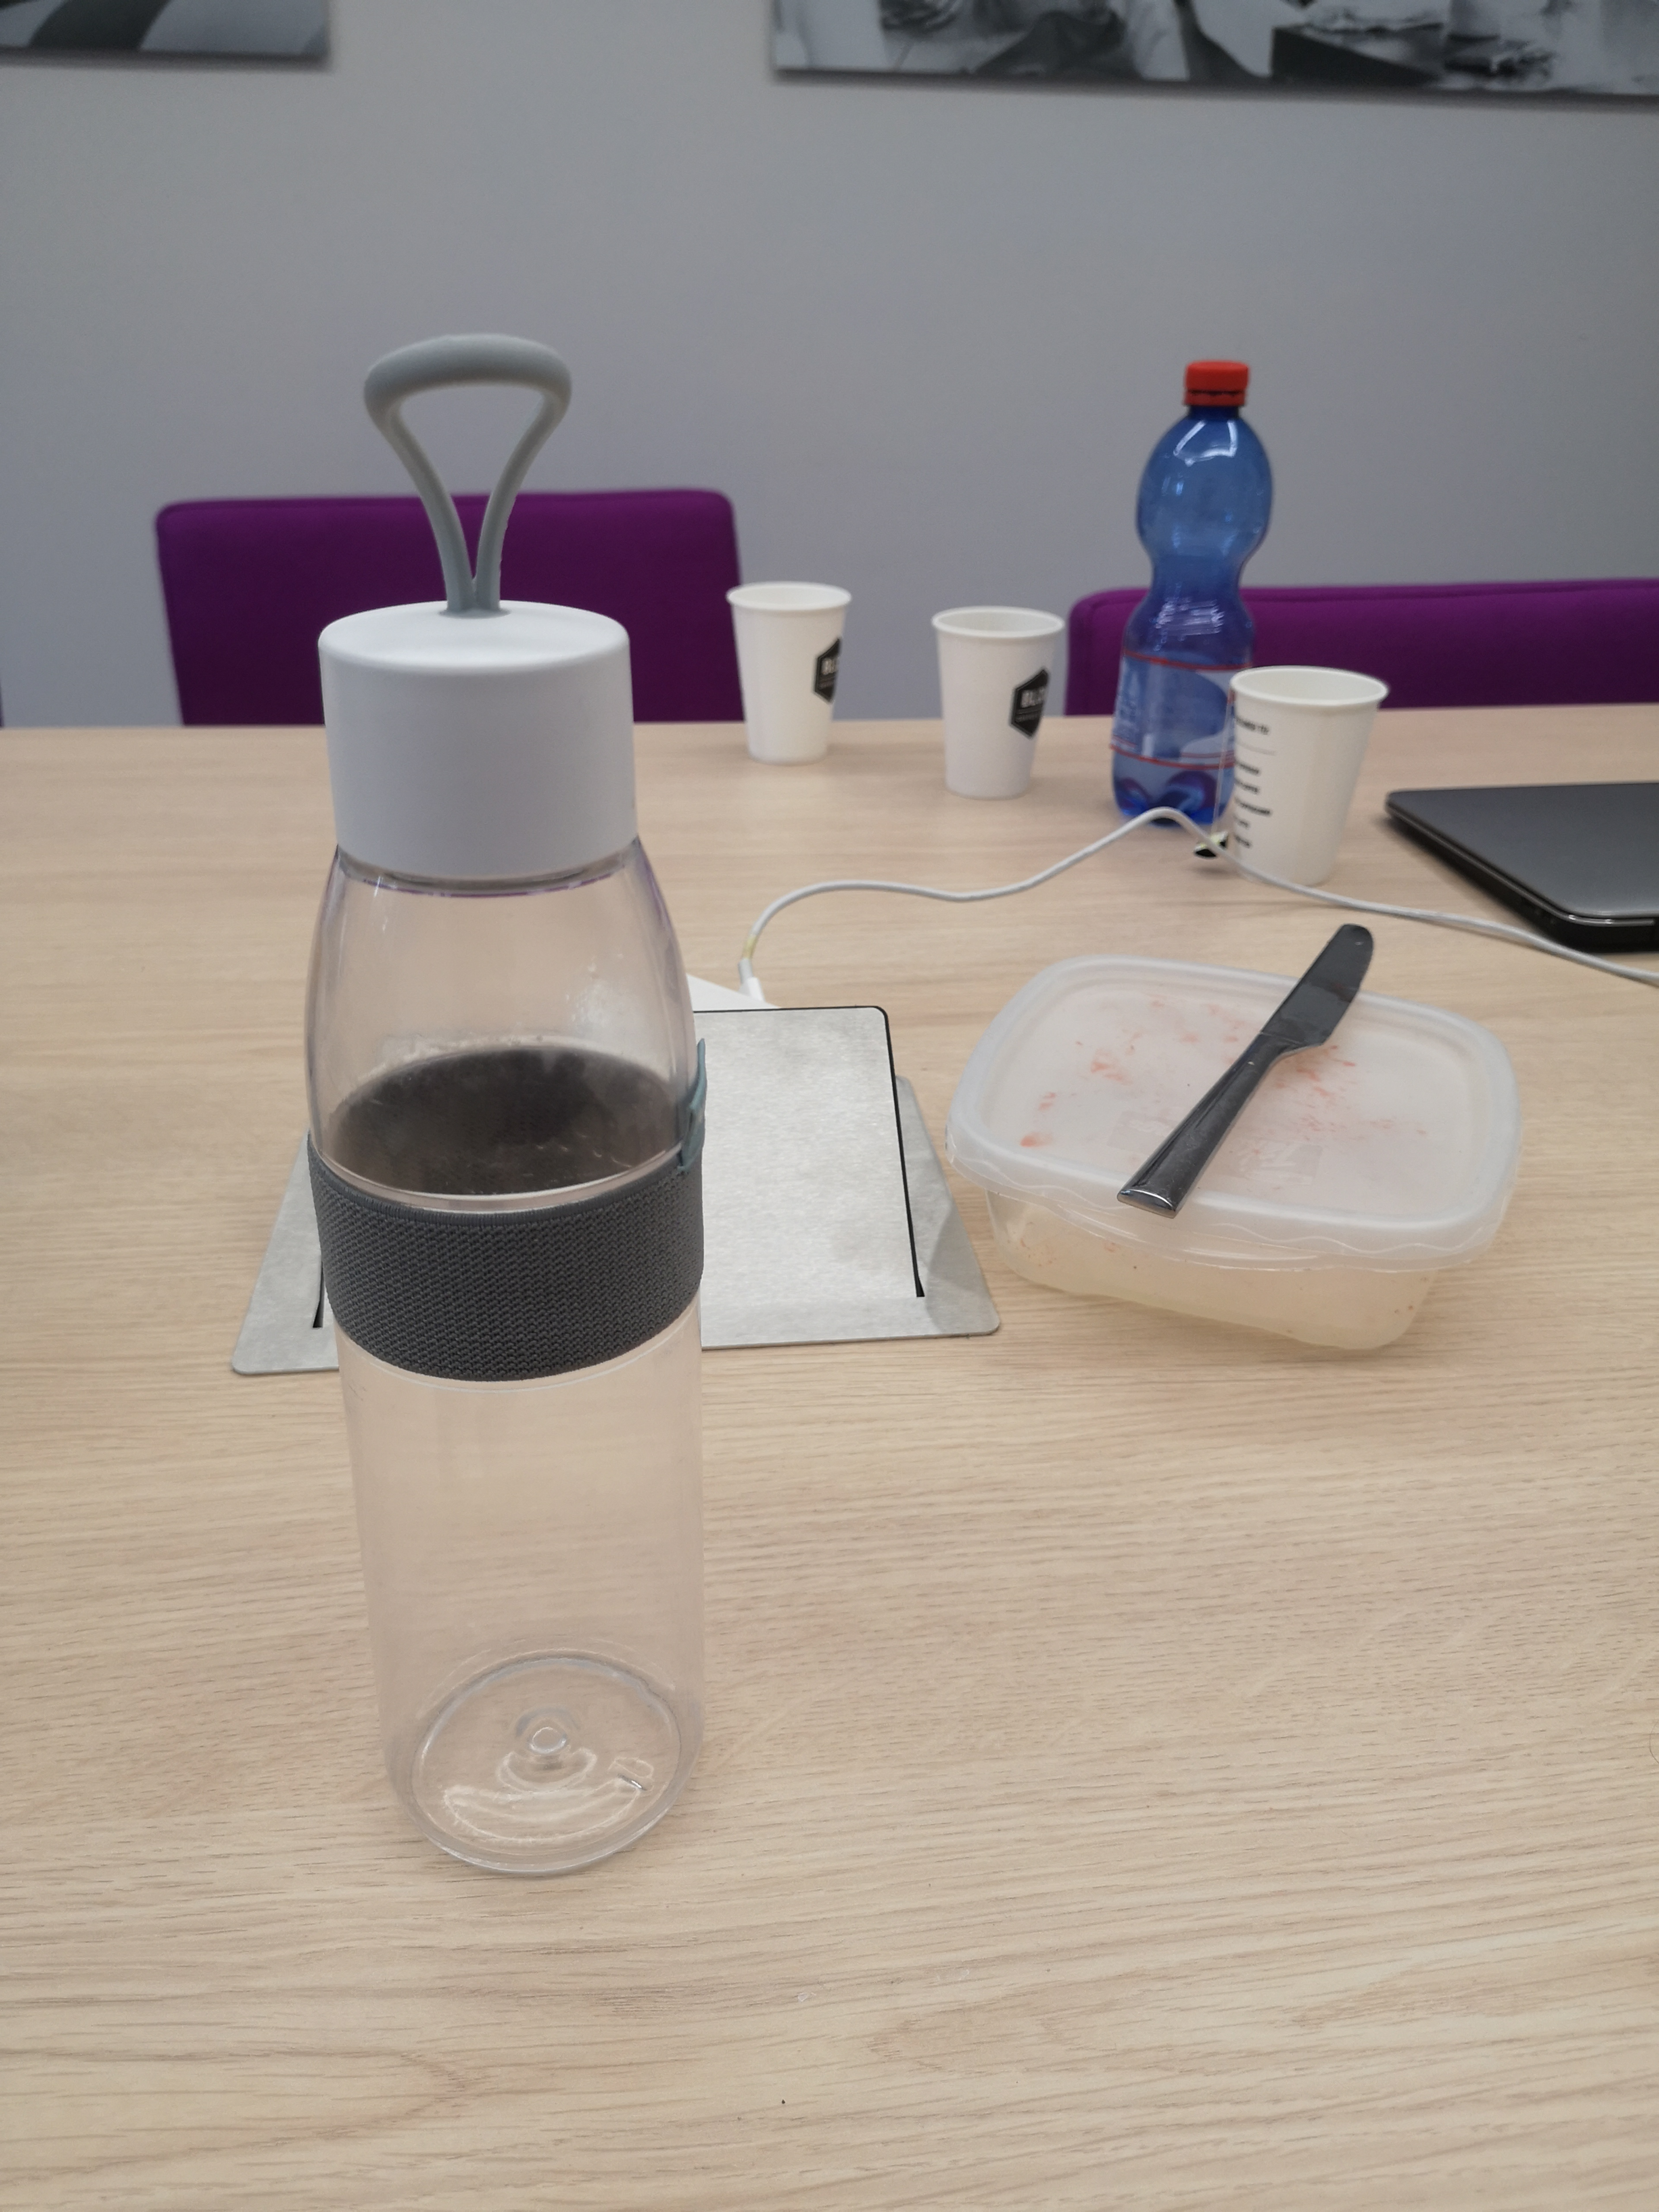cup: (1215, 651, 1410, 899), (911, 587, 1070, 817), (721, 568, 856, 789)
plastic_bottle: (289, 561, 763, 1900), (1103, 326, 1300, 859)
